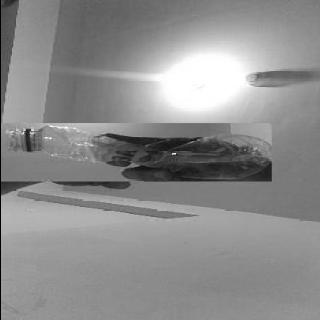plastic_bottles: (0, 124, 271, 182)
